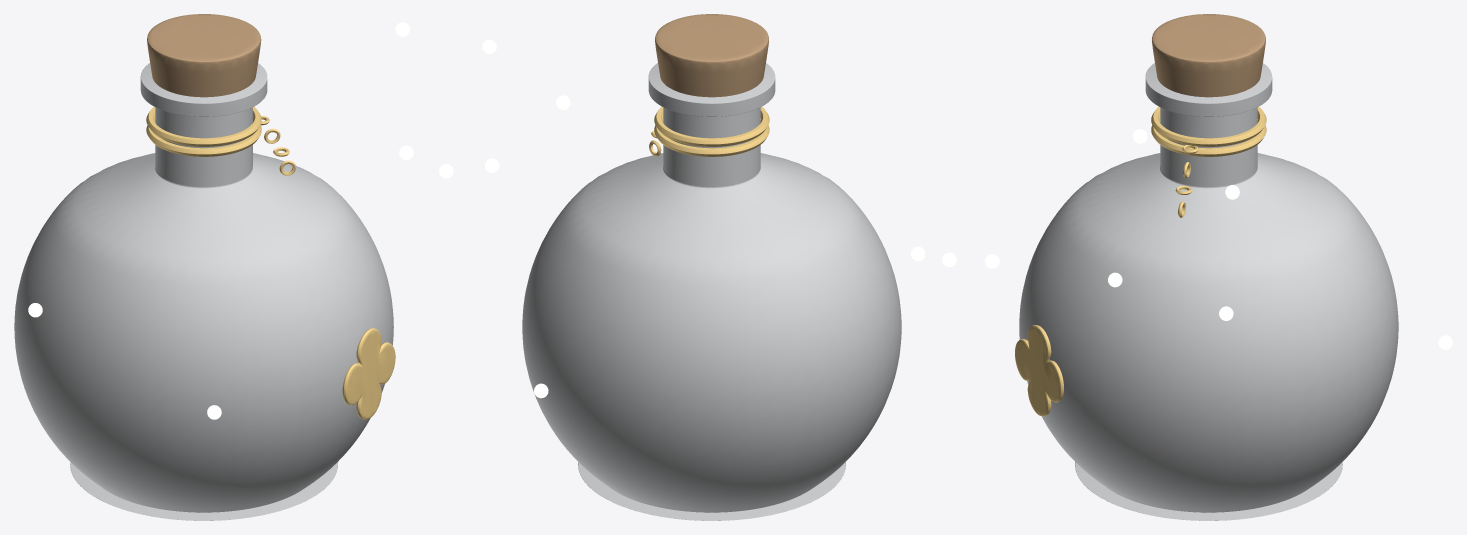
The model's file is luckpotion.glb.
3 views of the same model, side by side, from view 1: azimuth 30°, elevation 25°; view 2: azimuth 150°, elevation 25°; view 3: azimuth 270°, elevation 25° (orthographic).
Parts seen in each view (by area): view 1: LuckPotion_Glass, LuckPotion_Cork, LuckPotion_LabelIcon, LuckPotion_String.001, LuckPotion_String; view 2: LuckPotion_Glass, LuckPotion_Cork, LuckPotion_String.001, LuckPotion_String; view 3: LuckPotion_Glass, LuckPotion_Cork, LuckPotion_LabelIcon, LuckPotion_String.001, LuckPotion_String.
Boxes of the visible parts, <box> form: LuckPotion_Glass: <box>14,63,393,520</box>; LuckPotion_Cork: <box>147,14,261,97</box>; LuckPotion_LabelIcon: <box>342,328,395,419</box>; LuckPotion_String.001: <box>146,106,261,146</box>; LuckPotion_String: <box>146,119,261,156</box>; LuckPotion_Glass: <box>522,63,901,520</box>; LuckPotion_Cork: <box>655,14,768,97</box>; LuckPotion_String.001: <box>654,106,769,146</box>; LuckPotion_String: <box>654,118,769,156</box>; LuckPotion_Glass: <box>1019,63,1398,520</box>; LuckPotion_Cork: <box>1152,14,1265,97</box>; LuckPotion_LabelIcon: <box>1015,325,1063,416</box>; LuckPotion_String.001: <box>1151,106,1266,146</box>; LuckPotion_String: <box>1151,118,1266,156</box>.
Bounding box in the file's own units: 2.02 × 1.94 × 1.92.
